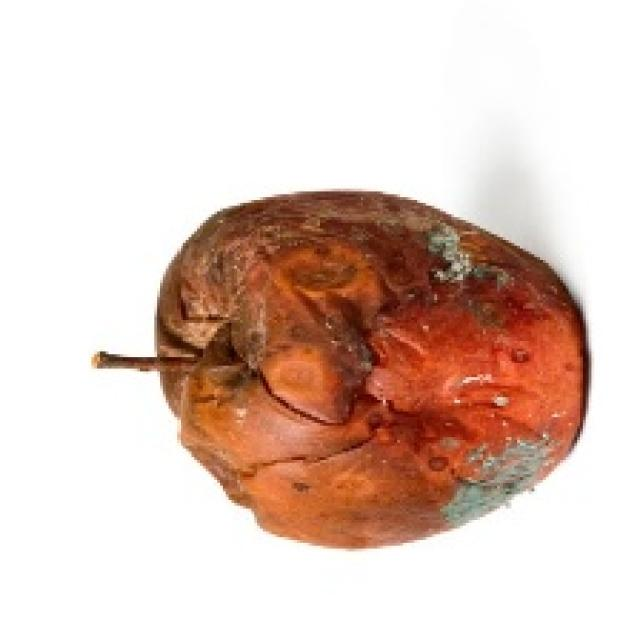rotten_apple: (160, 192, 585, 544)
